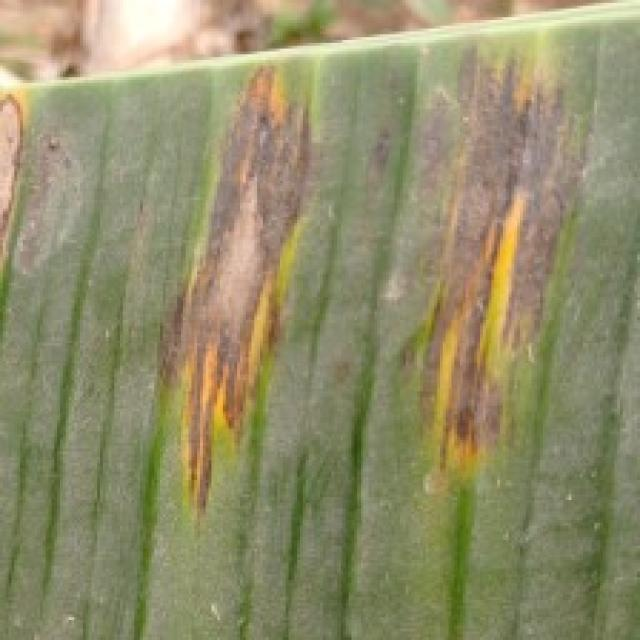Bacterial_spot: (373, 24, 605, 504), (136, 58, 332, 533), (0, 77, 73, 315)
